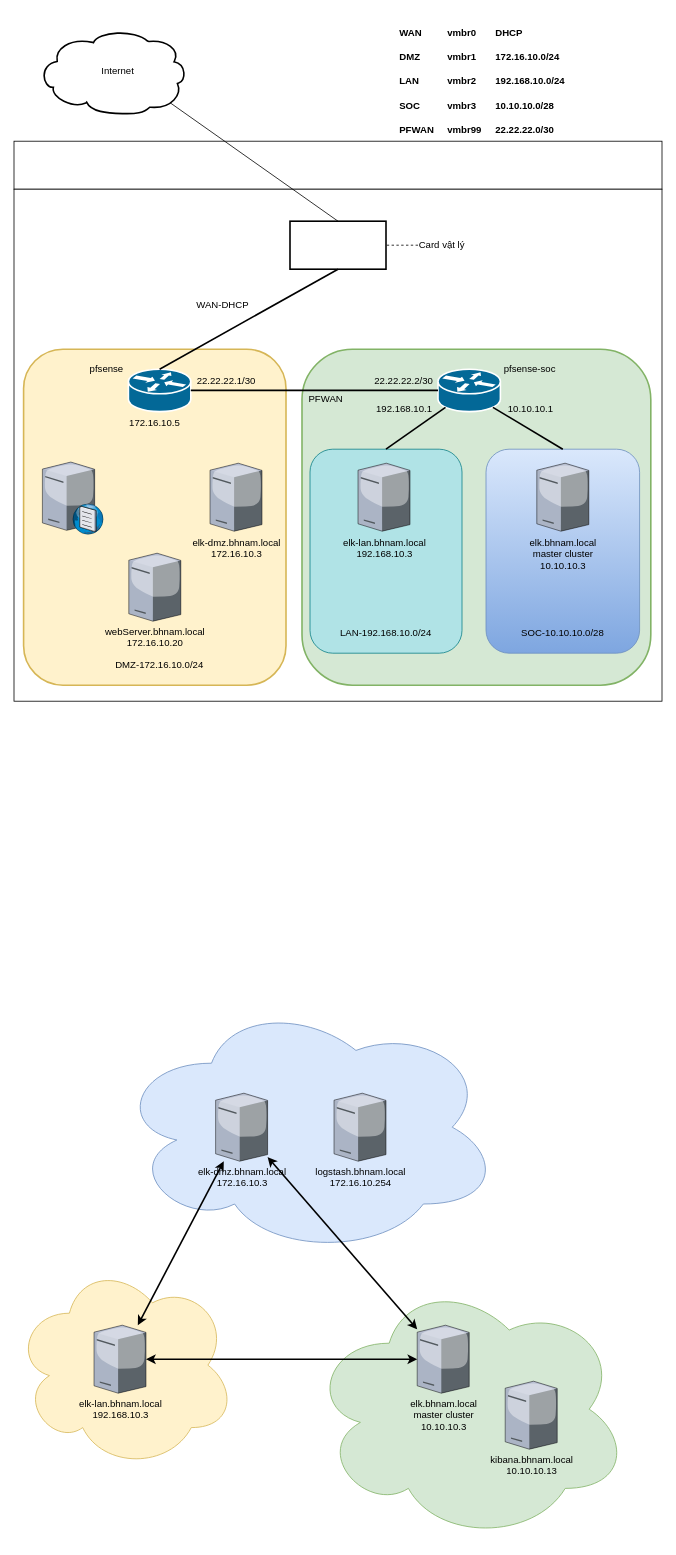
Image size: 676x1555. Some labels were removed from this diagram. Each missing label, with the centre of its shape:
dnsServer.bhnam.local 172.16.10.30: the point at 72,497
enp5s0: the point at 337,245
PROXMOX: the point at 337,164
